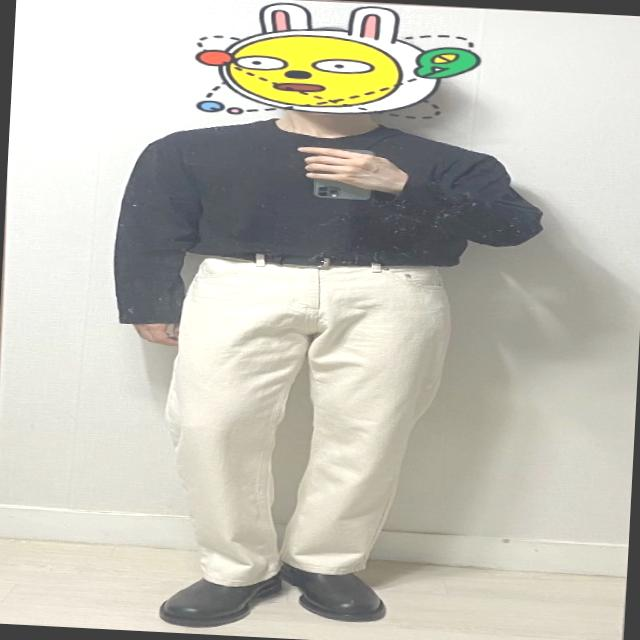cottonpants: (156, 249, 464, 594)
longsleeve: (112, 108, 548, 344)
